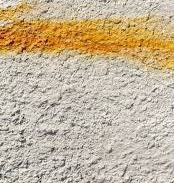Corrosion: (1, 15, 174, 72), (1, 1, 35, 16)
